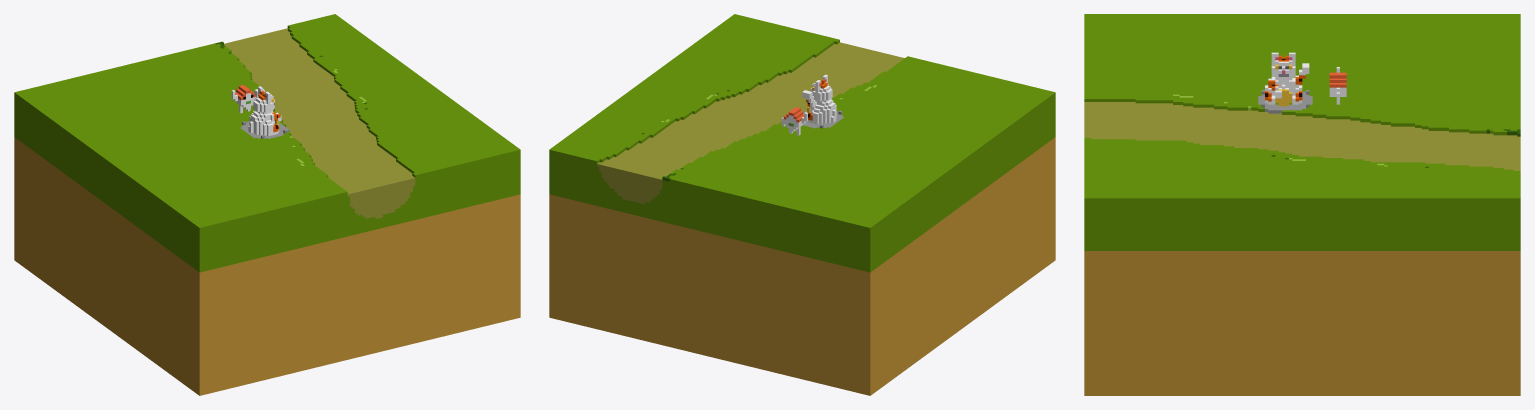
3 renders of one model, left to right at view 1: azimuth 30°, elevation 25°; view 2: azimuth 150°, elevation 25°; view 3: azimuth 270°, elevation 25°, orthographic. The views are drawn at different scales.
Parts seen in each view (by area): view 1: 6F; view 2: 6F; view 3: 6F.
Boxes of the visible parts, <box> form: 6F: <box>14,14,520,395</box>; 6F: <box>549,14,1055,395</box>; 6F: <box>1084,14,1520,395</box>.
Bounding box in the file's own units: 12.8 × 7.9 × 12.8.
Materials: 1 (1 with a texture image).
